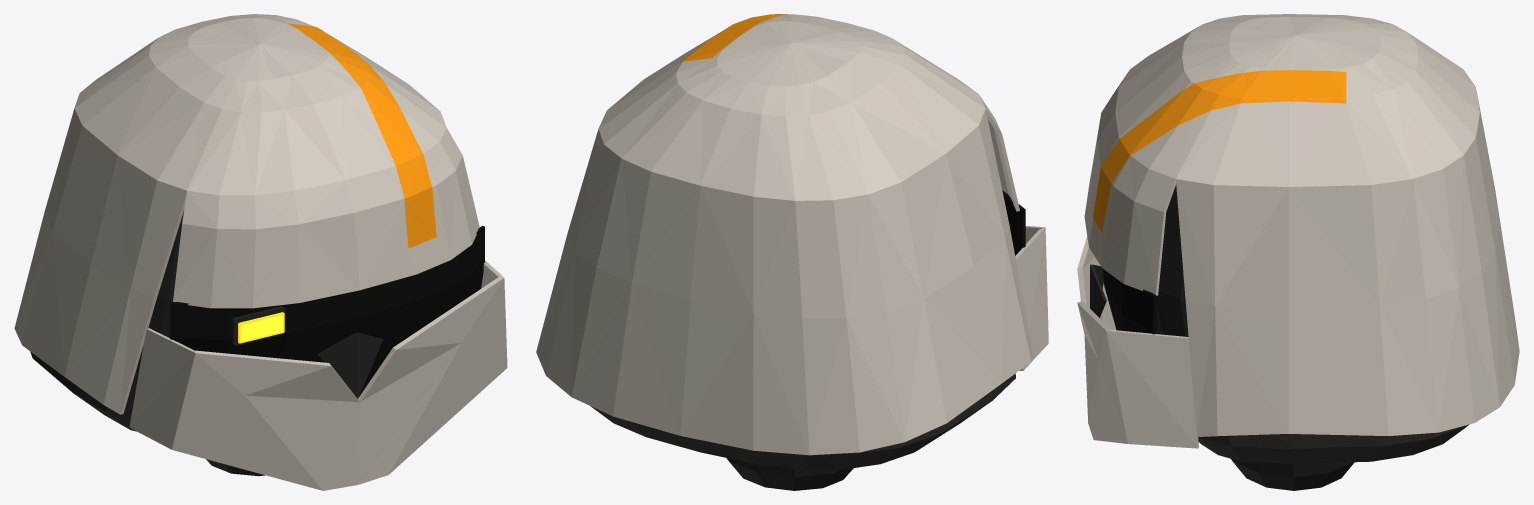
The model's file is sector-trooper-head.glb.
The picture shows the model from 3 angles, left to right: view 1: azimuth 30°, elevation 25°; view 2: azimuth 150°, elevation 25°; view 3: azimuth 270°, elevation 25°; orthographic projection. The views are drawn at different scales.
Visible parts, largest first — view 1: HEAD | 01 crown, HEAD | 03 overhanging brow, HEAD | 04 flared side and rear shell, HEAD | 07 right cheek and chin, HEAD | 07 left cheek and chin, HEAD | 06 recessed visor, HEAD | 11 offset amber crown stripe, HEAD | 02 crown top, HEAD | 08 right cheek return, HEAD | 05 dark inner helmet, HEAD | 10 central black bridge, HEAD | 14 amber optic lens (+1 smaller); view 2: HEAD | 04 flared side and rear shell, HEAD | 01 crown, HEAD | 02 crown top, HEAD | 05 dark inner helmet, HEAD | 08 right cheek return, HEAD | 15 neck socket, HEAD | 11 offset amber crown stripe, HEAD | 03 overhanging brow, HEAD | 06 recessed visor; view 3: HEAD | 04 flared side and rear shell, HEAD | 01 crown, HEAD | 05 dark inner helmet, HEAD | 03 overhanging brow, HEAD | 08 left cheek return, HEAD | 11 offset amber crown stripe, HEAD | 02 crown top, HEAD | 07 left cheek and chin, HEAD | 15 neck socket, HEAD | 06 recessed visor, HEAD | 07 right cheek and chin, HEAD | 10 central black bridge.
Boxes of the visible parts, left/top/right/bottom form: HEAD | 01 crown: left=74, top=14, right=446, bottom=195; HEAD | 03 overhanging brow: left=173, top=127, right=479, bottom=308; HEAD | 04 flared side and rear shell: left=14, top=108, right=186, bottom=414; HEAD | 07 right cheek and chin: left=172, top=350, right=360, bottom=490; HEAD | 07 left cheek and chin: left=358, top=276, right=507, bottom=484; HEAD | 06 recessed visor: left=170, top=226, right=484, bottom=396; HEAD | 11 offset amber crown stripe: left=288, top=23, right=436, bottom=247; HEAD | 02 crown top: left=188, top=18, right=327, bottom=80; HEAD | 08 right cheek return: left=129, top=328, right=198, bottom=449; HEAD | 05 dark inner helmet: left=30, top=211, right=183, bottom=431; HEAD | 10 central black bridge: left=318, top=332, right=383, bottom=398; HEAD | 14 amber optic lens: left=241, top=315, right=282, bottom=341; HEAD | 04 flared side and rear shell: left=536, top=109, right=1033, bottom=455; HEAD | 01 crown: left=598, top=14, right=985, bottom=200; HEAD | 02 crown top: left=717, top=21, right=861, bottom=86; HEAD | 05 dark inner helmet: left=590, top=373, right=1015, bottom=469; HEAD | 08 right cheek return: left=1015, top=227, right=1048, bottom=370; HEAD | 15 neck socket: left=726, top=458, right=853, bottom=490; HEAD | 11 offset amber crown stripe: left=679, top=14, right=787, bottom=63; HEAD | 03 overhanging brow: left=979, top=95, right=1019, bottom=211; HEAD | 06 recessed visor: left=1002, top=191, right=1025, bottom=255; HEAD | 04 flared side and rear shell: left=1175, top=90, right=1519, bottom=436; HEAD | 01 crown: left=1115, top=14, right=1479, bottom=186; HEAD | 05 dark inner helmet: left=1156, top=184, right=1469, bottom=463; HEAD | 03 overhanging brow: left=1084, top=73, right=1175, bottom=295; HEAD | 08 left cheek return: left=1106, top=329, right=1198, bottom=448; HEAD | 11 offset amber crown stripe: left=1092, top=70, right=1346, bottom=232; HEAD | 02 crown top: left=1229, top=17, right=1380, bottom=70; HEAD | 07 left cheek and chin: left=1077, top=301, right=1127, bottom=443; HEAD | 15 neck socket: left=1231, top=459, right=1354, bottom=490; HEAD | 06 recessed visor: left=1102, top=268, right=1156, bottom=334; HEAD | 07 right cheek and chin: left=1077, top=236, right=1116, bottom=330; HEAD | 10 central black bridge: left=1090, top=264, right=1106, bottom=317.
Bounding box in the file's own units: 0.6979 × 0.6849 × 0.638.
